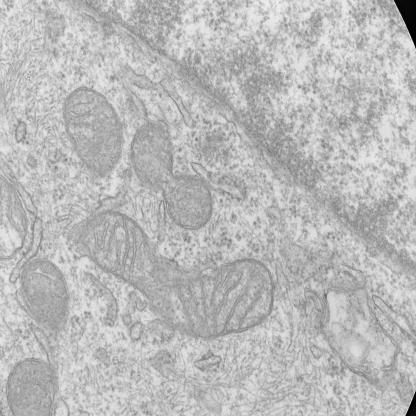mitochondria: (70, 209, 276, 344), (130, 118, 216, 231), (64, 83, 124, 180), (18, 254, 70, 332), (5, 353, 60, 416)
